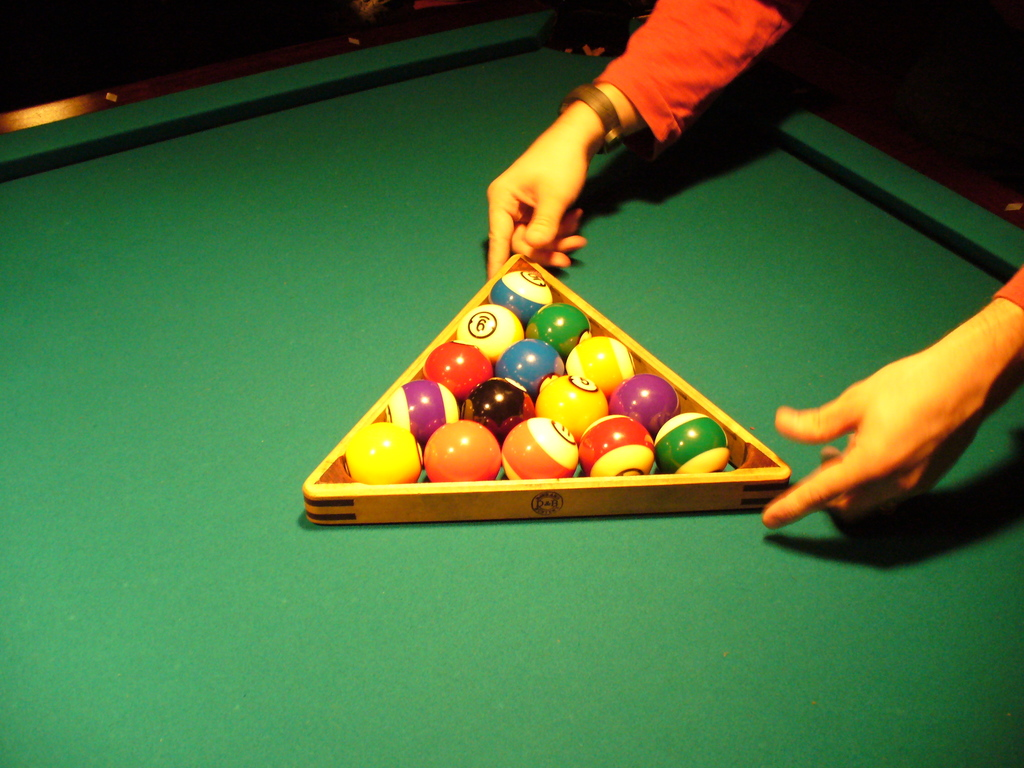Ball: (346, 270, 733, 484)
